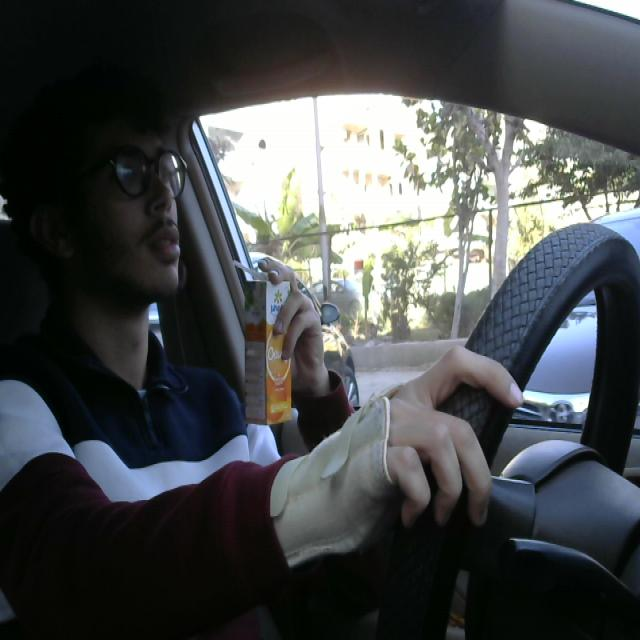drinking: (225, 252, 298, 432)
